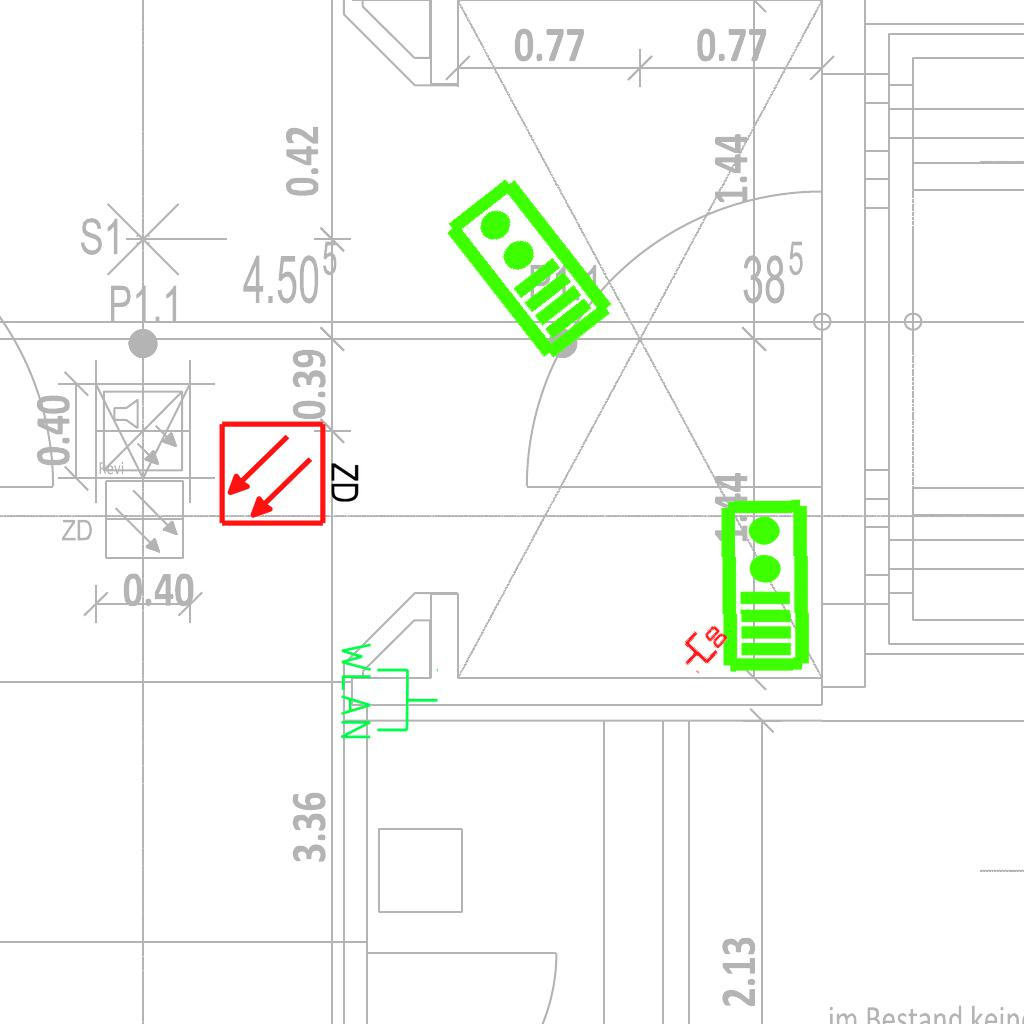Datenanschluss_zweifach: (672, 615, 732, 676)
Gegensprechanlage_mit_Video: (435, 170, 620, 368), (714, 496, 813, 674)
WLAN: (337, 638, 441, 743)
ZD_Melder_in_Zwischendecke_mit_Revisionsoeffnung_mind_40_x_40_cm: (217, 415, 366, 529)
